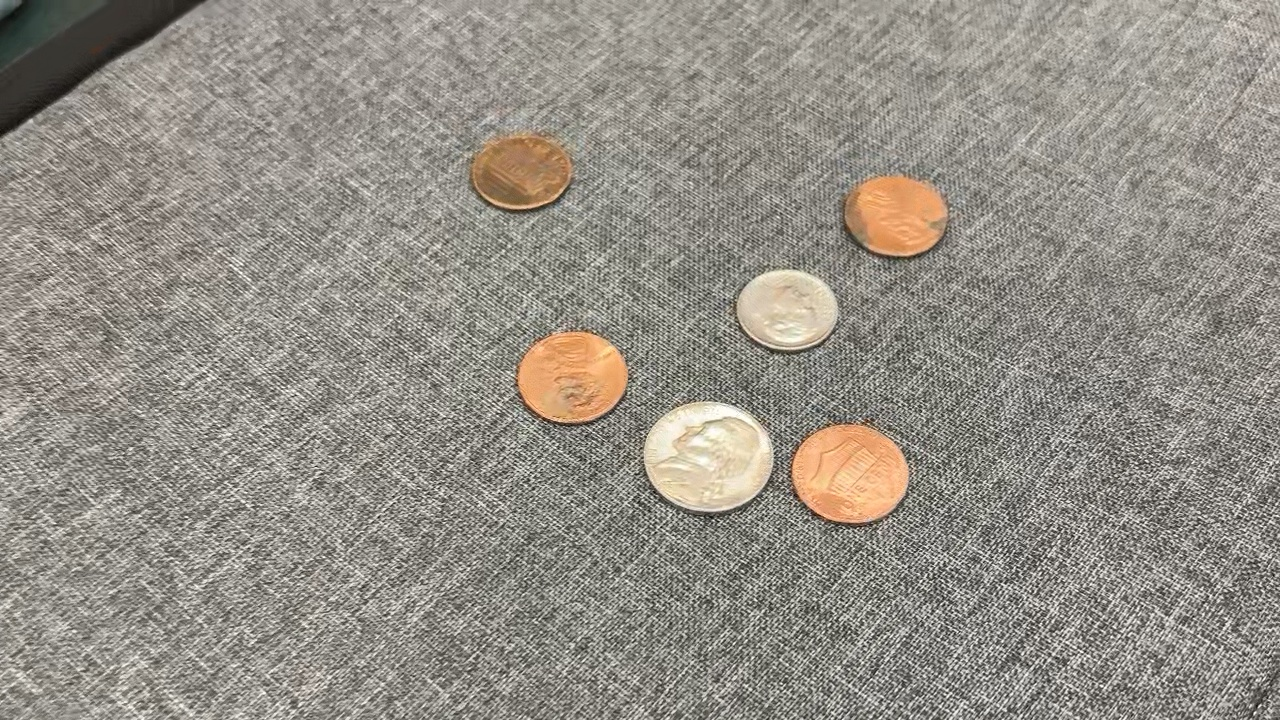dime: (731, 266, 839, 356)
nickel: (641, 399, 777, 515)
penny: (789, 420, 910, 529), (515, 329, 629, 429), (842, 173, 950, 259), (471, 132, 577, 213)
